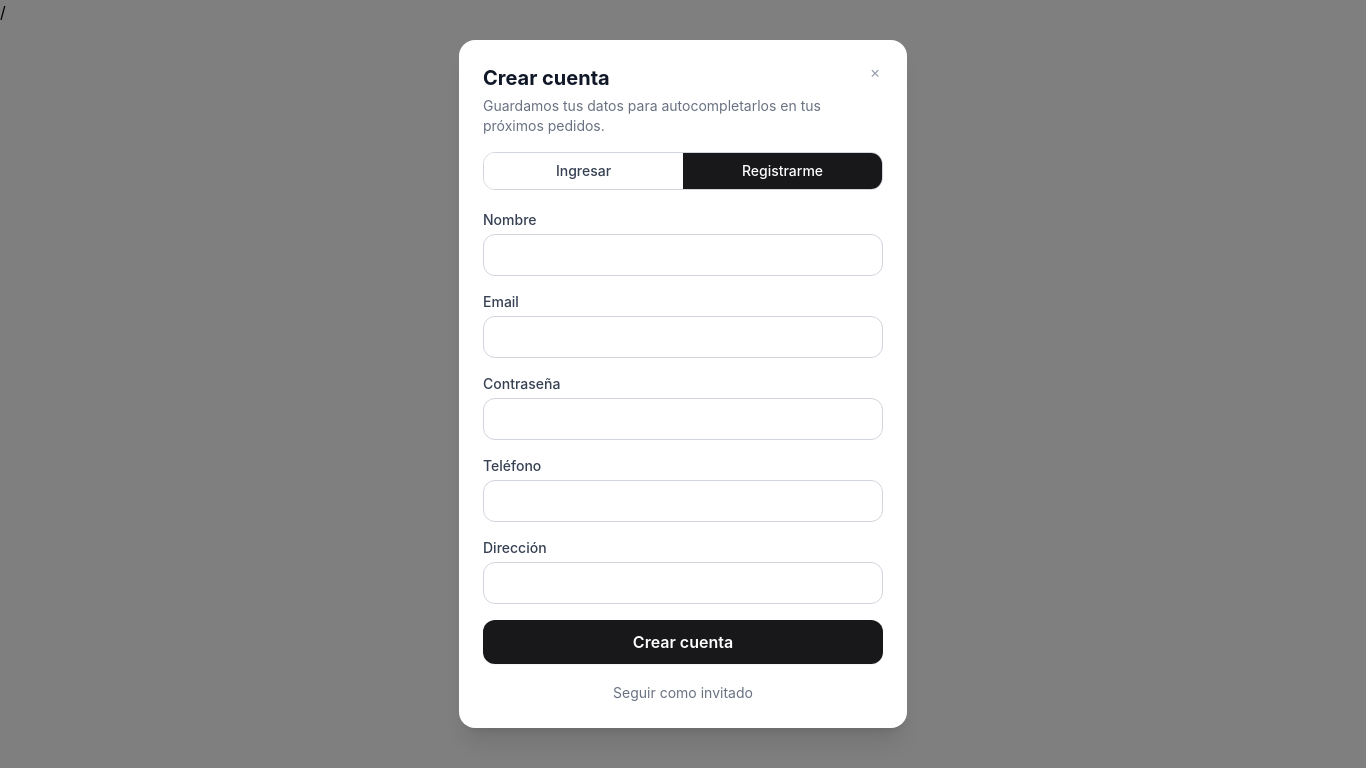
it: CustomerAuthModal › valida todos los campos del registro
Type "corta" into the password field labelled "Contraseña" at (683, 419), box [483, 398, 883, 440]
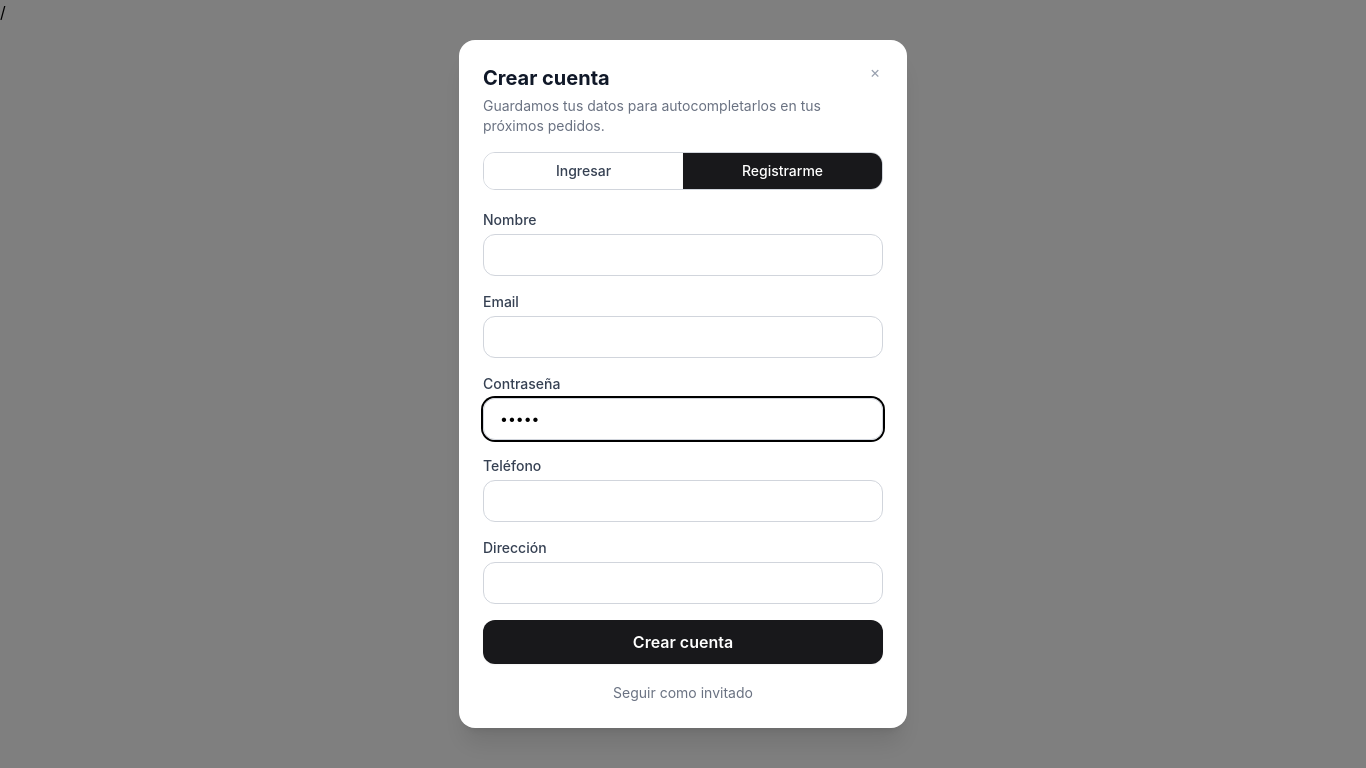
Type "abc" into the field labelled "Teléfono" at (683, 501), box [483, 480, 883, 522]
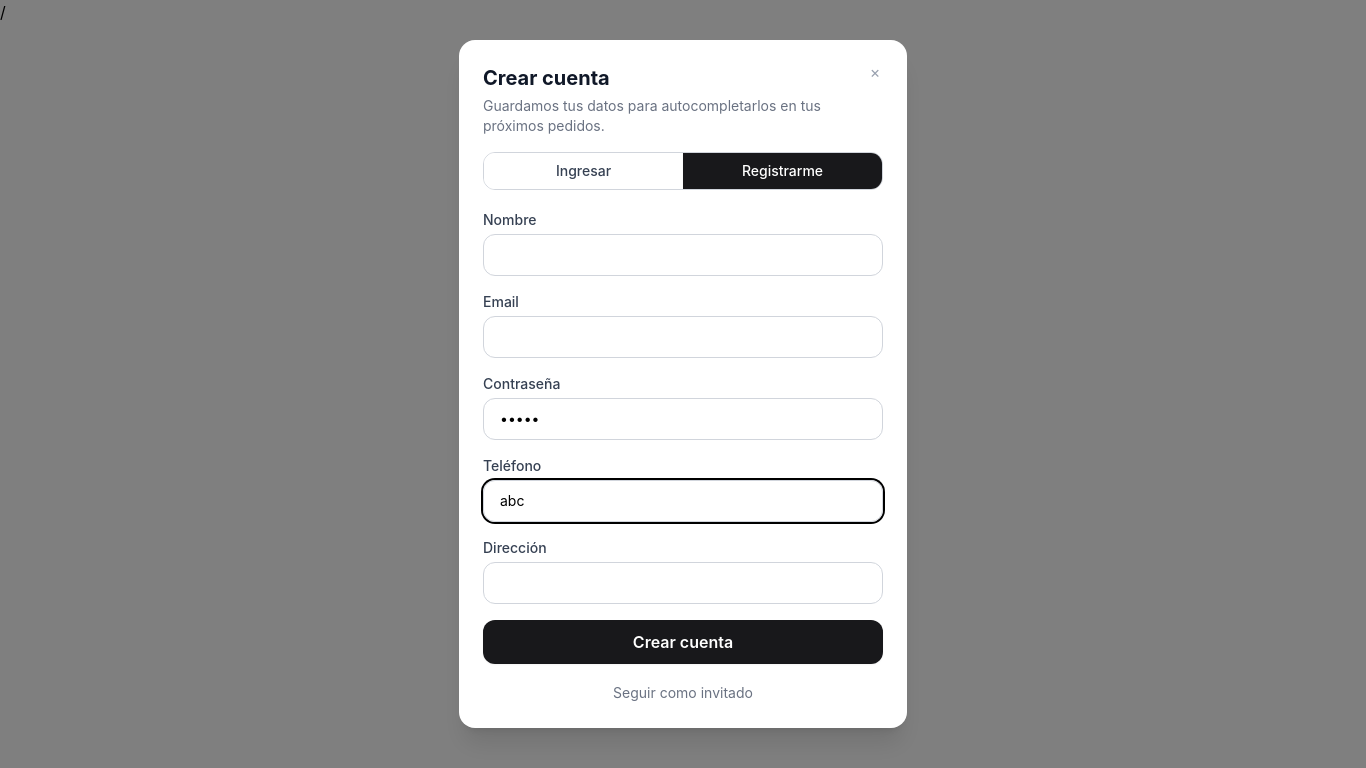
Click the button "Crear cuenta" at (683, 642), box [483, 620, 883, 664]
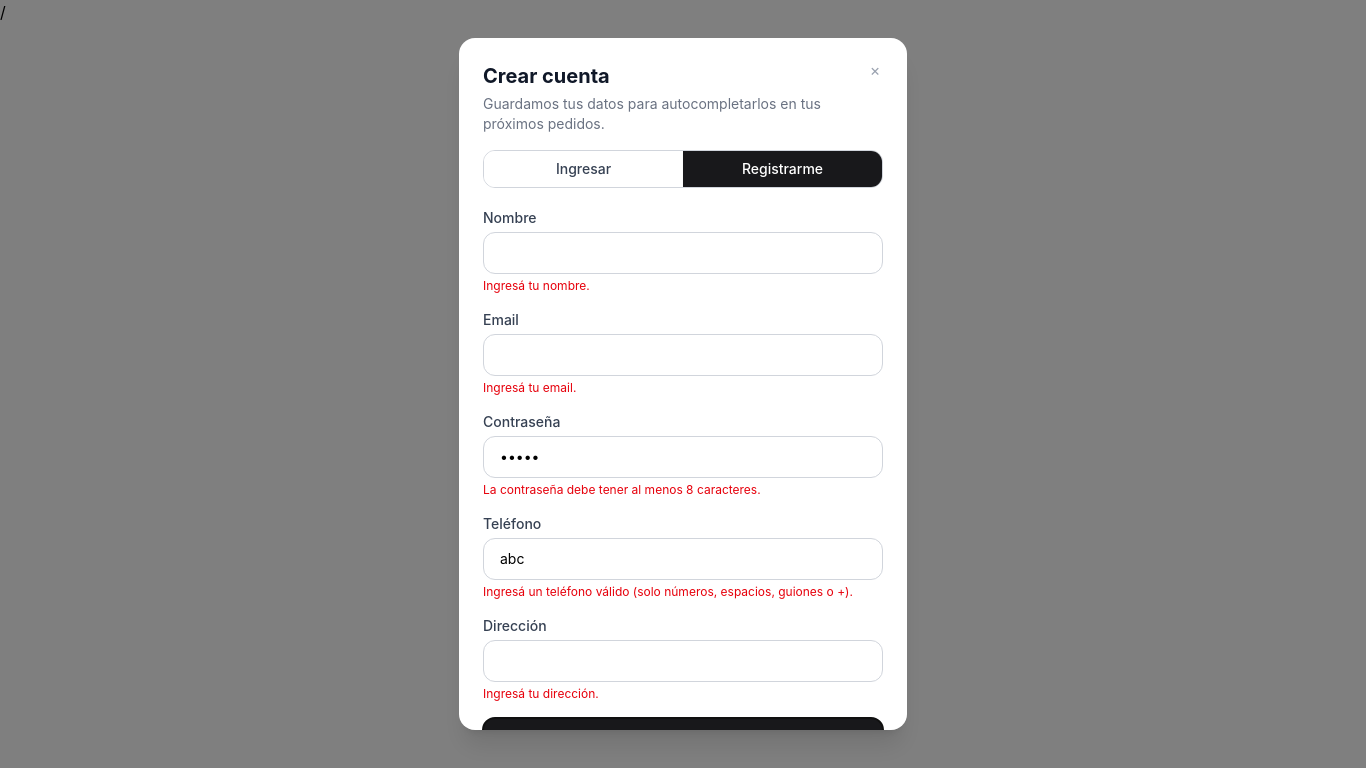
Result: the text "Ingresá tu email." is shown at [483, 380, 576, 395]
Result: the text "La contraseña debe tener al menos 8 caracteres." is shown at [483, 482, 761, 497]
Result: the text "Ingresá tu nombre." is shown at [483, 278, 590, 293]
